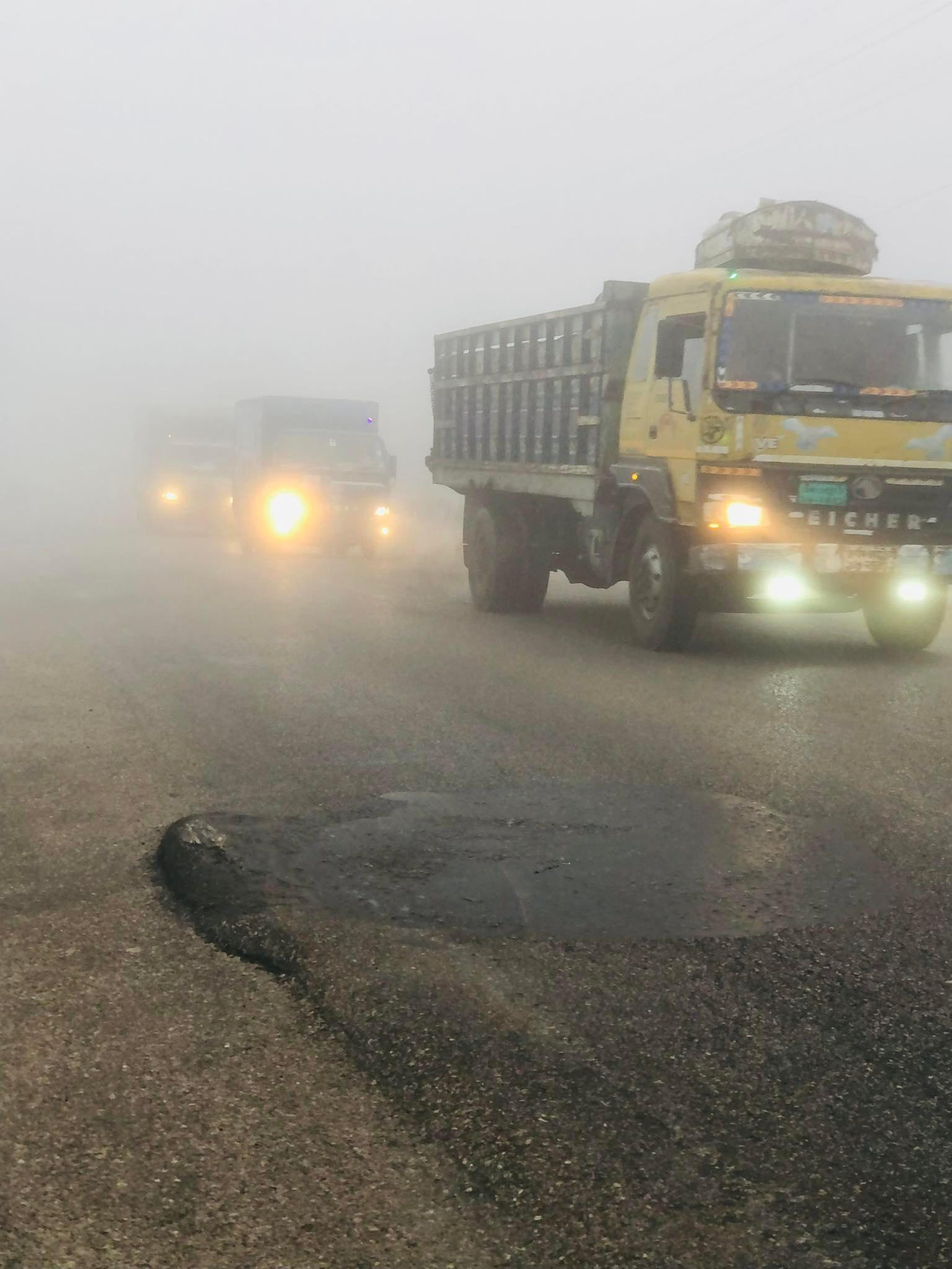Truck: (402, 183, 951, 698), (223, 382, 421, 574)
